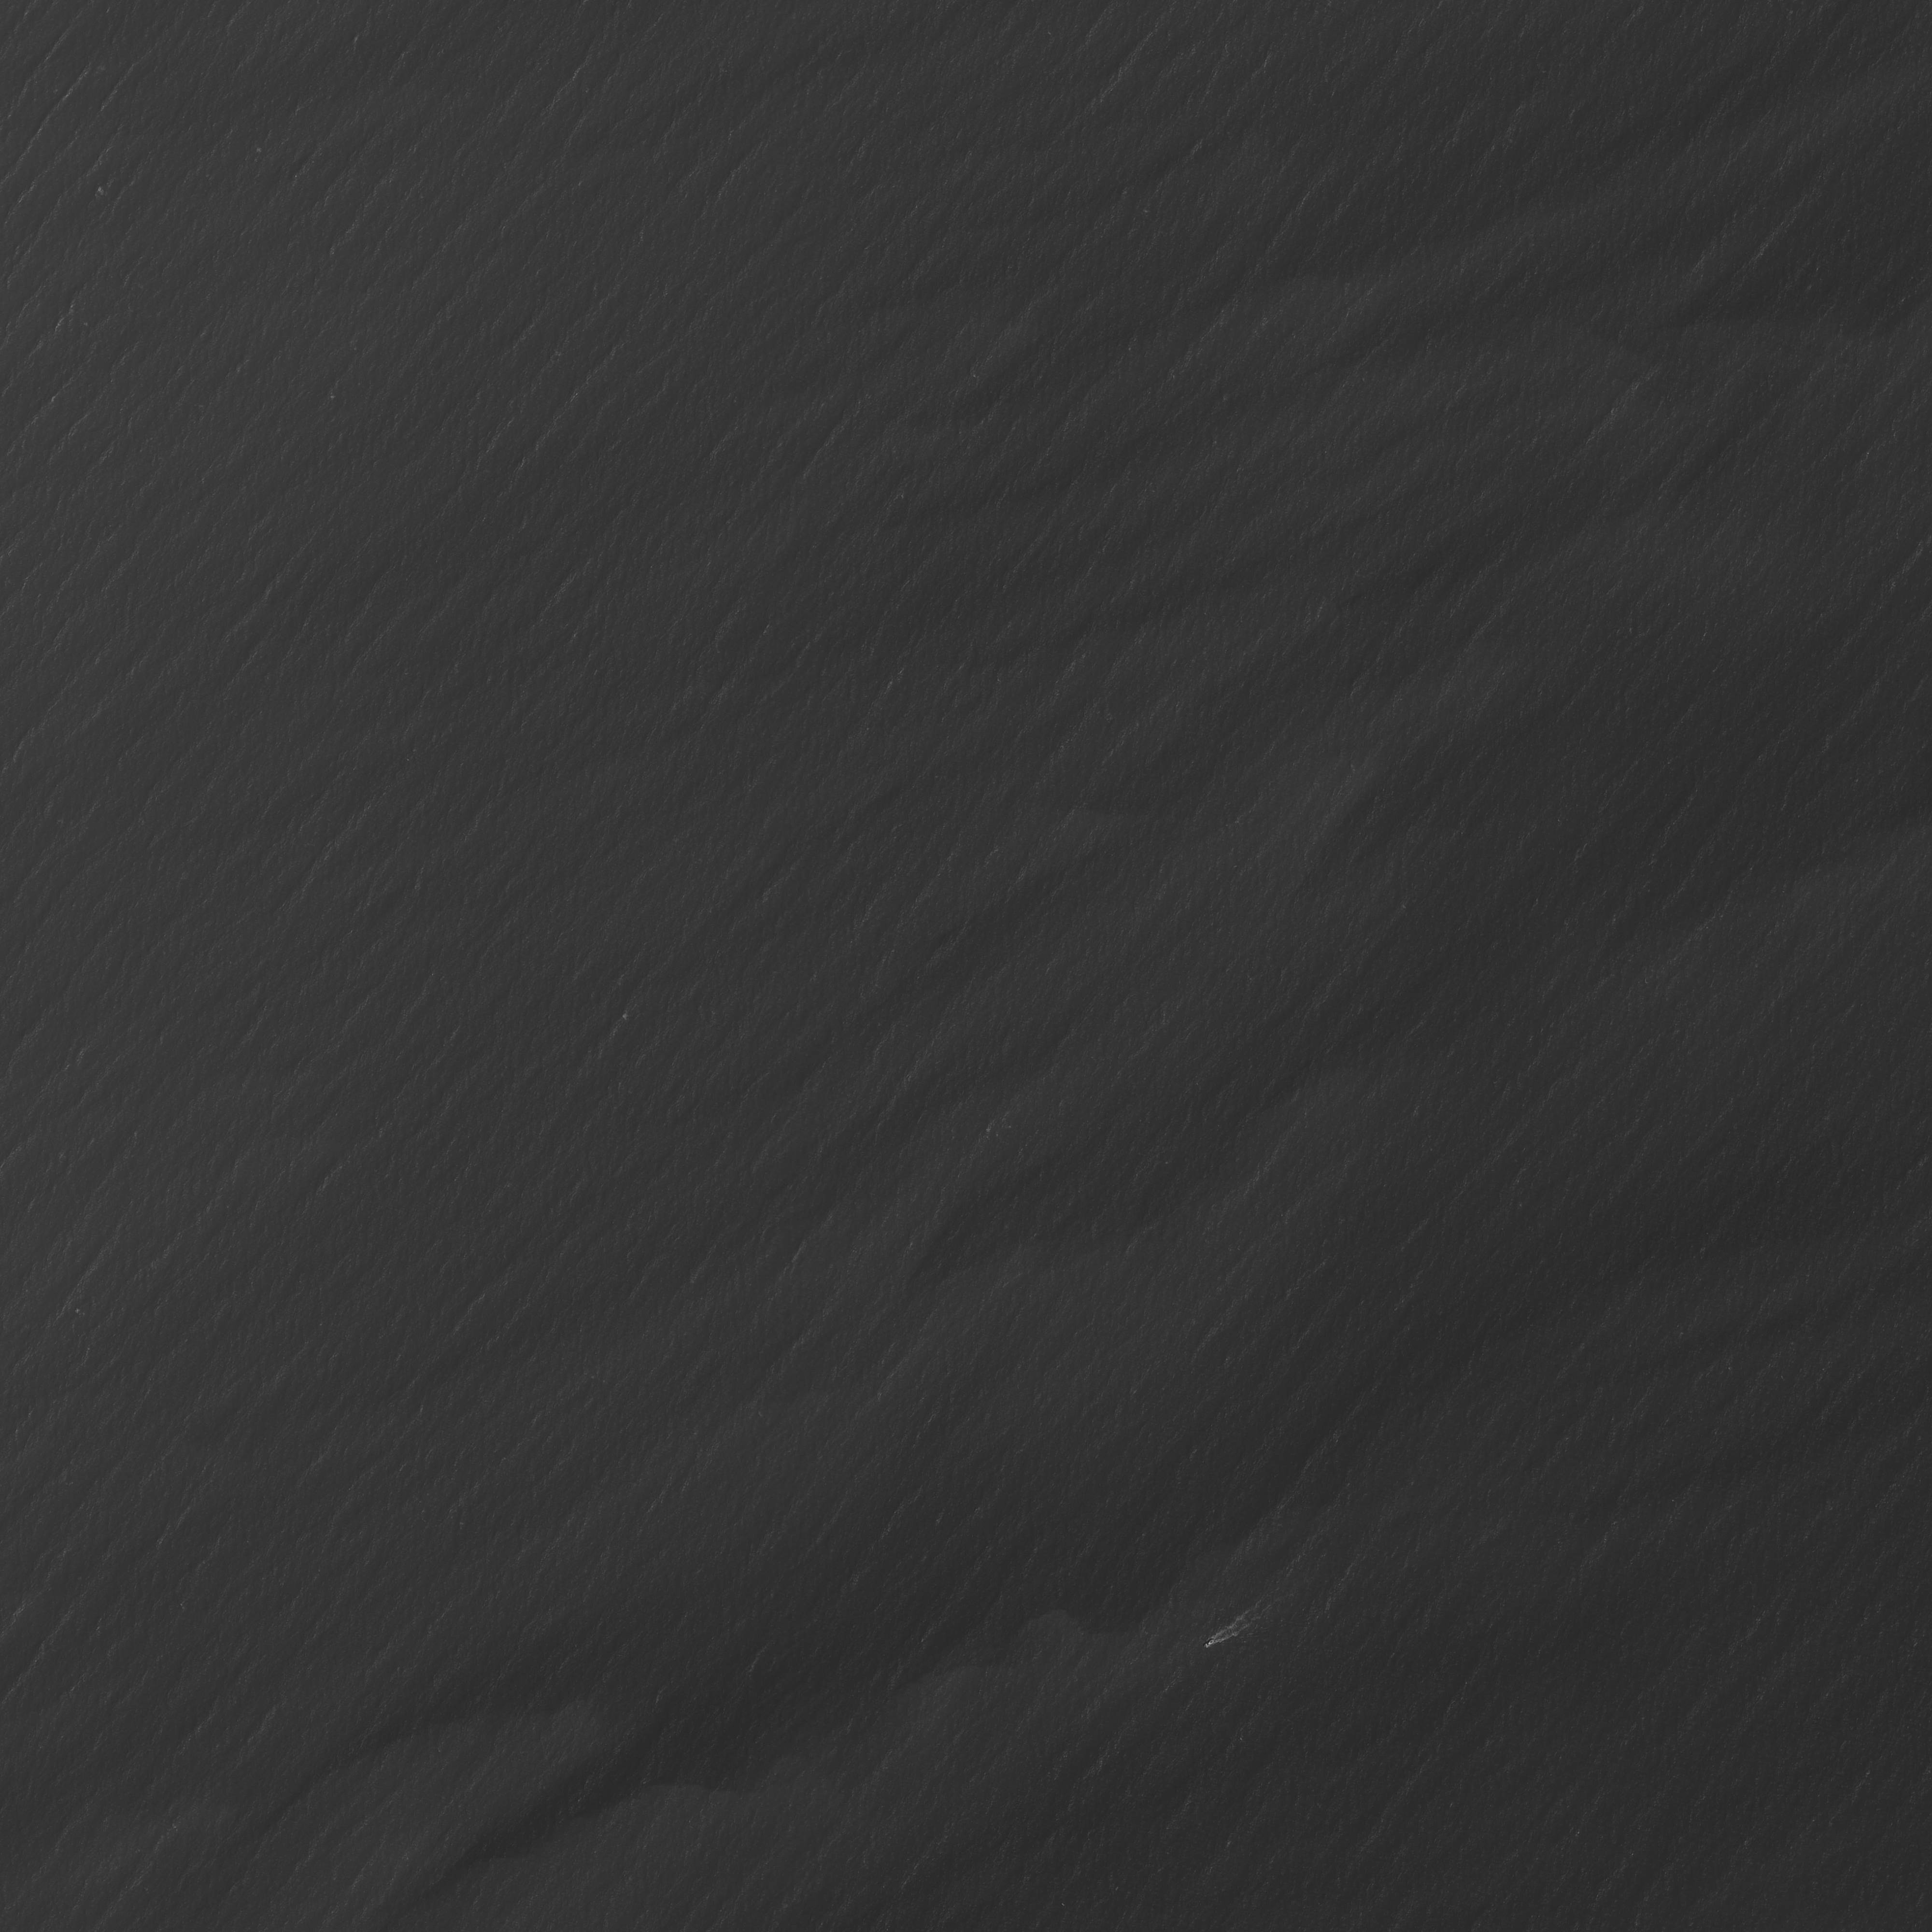ship: (1203, 1637, 1215, 1651)
